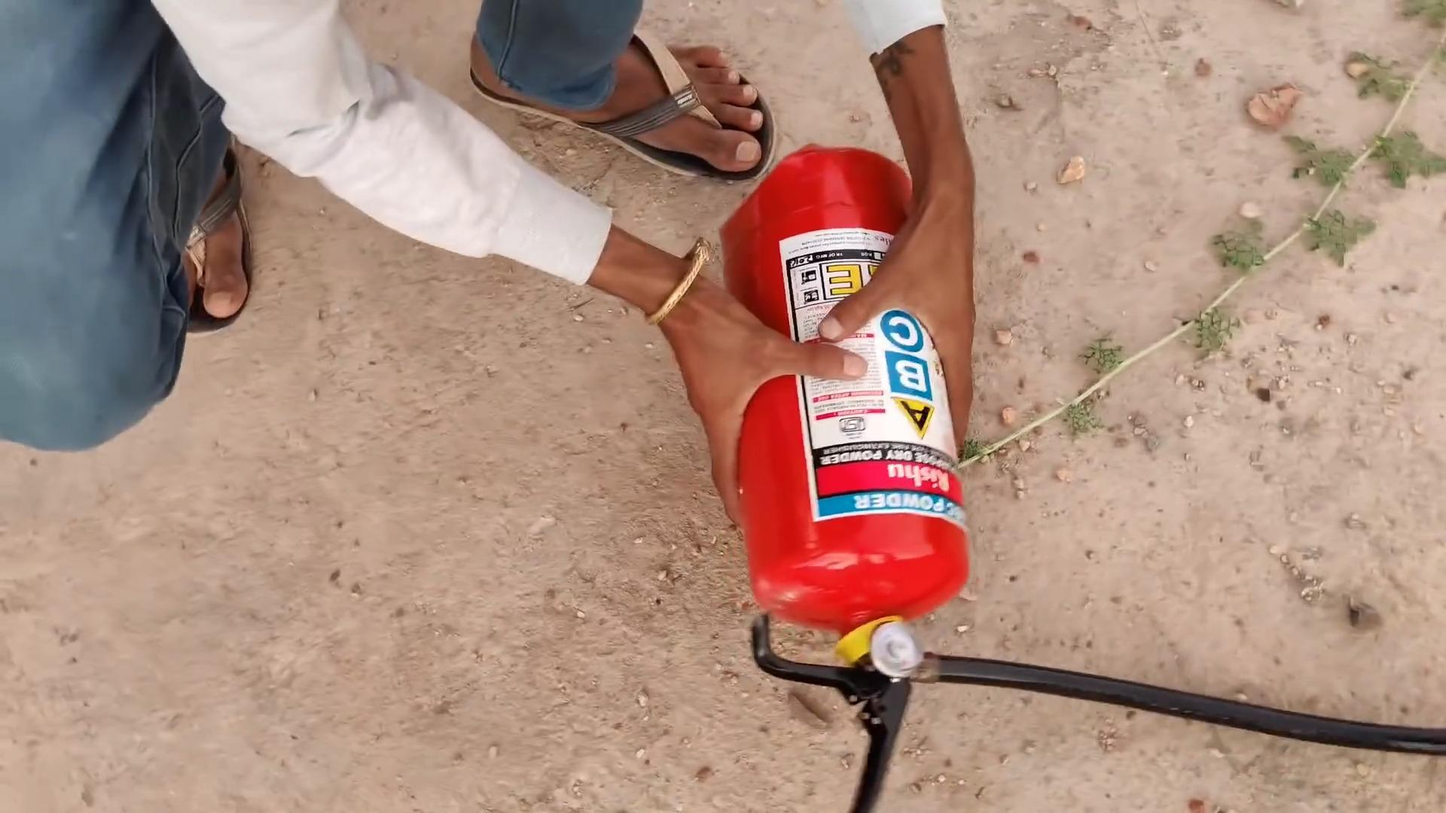FireExtinguisher: (695, 117, 988, 706)
